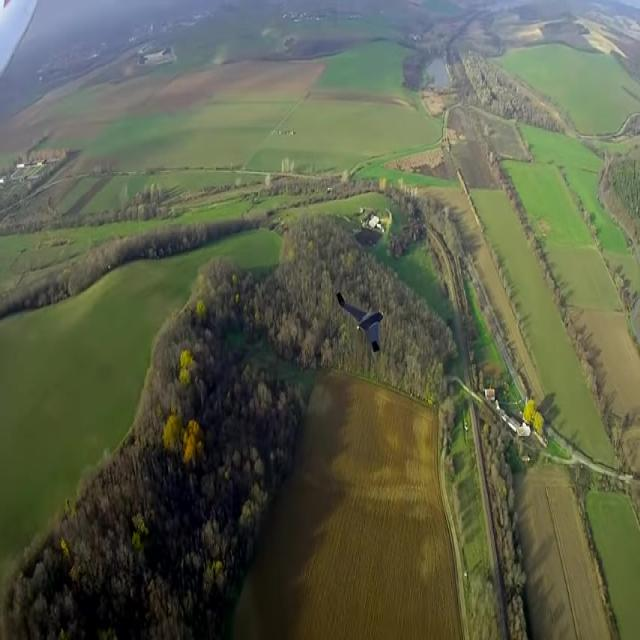iha: (335, 290, 382, 353)
